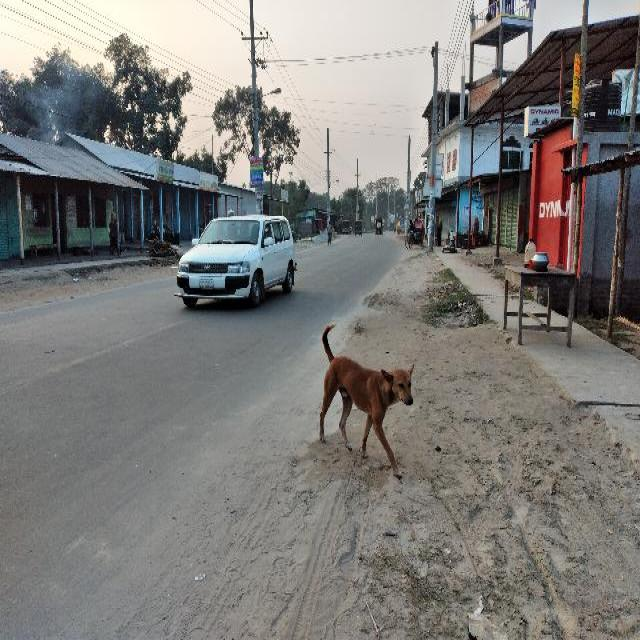auto rickshaw: (354, 219, 362, 237), (341, 218, 349, 234)
bicycle: (146, 221, 174, 243), (326, 219, 332, 245)
car: (170, 214, 304, 314)
rickshaw: (404, 216, 424, 248), (374, 218, 384, 238)
truck: (395, 213, 413, 235)
